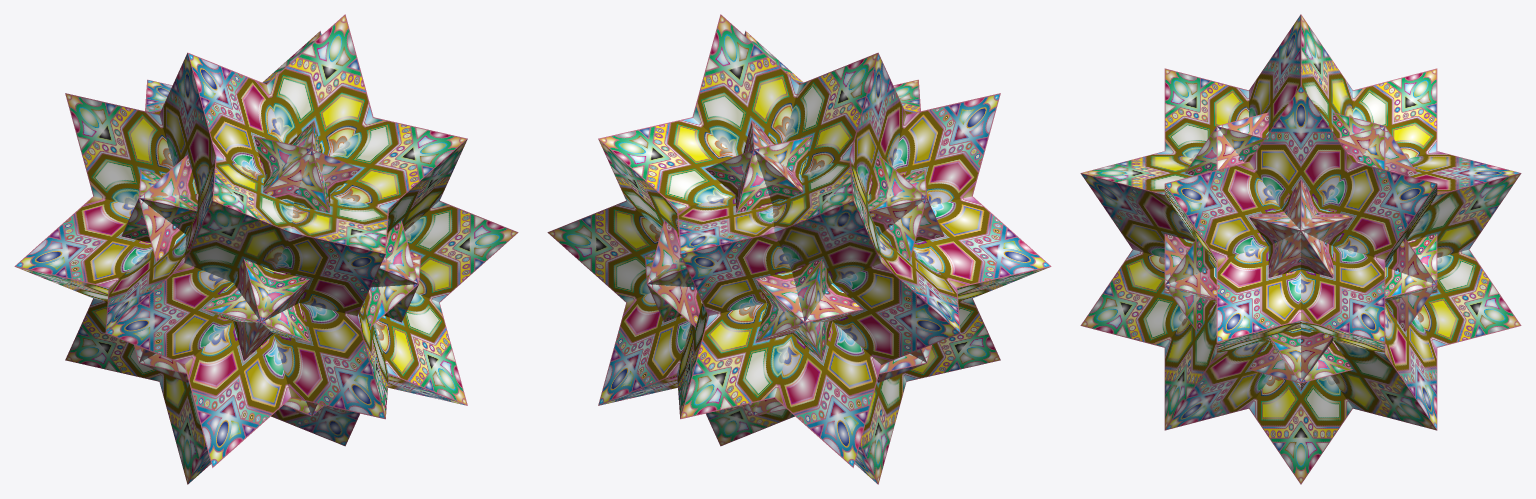
File: 6GreatRhombicTriacontahedron.obj
3 renders of one model, left to right at view 1: azimuth 30°, elevation 25°; view 2: azimuth 150°, elevation 25°; view 3: azimuth 270°, elevation 25°, orthographic. The views are drawn at different scales.
Bounding box in the file's own units: 1.12 × 1.12 × 1.12.
Materials: 1 (1 with a texture image).
